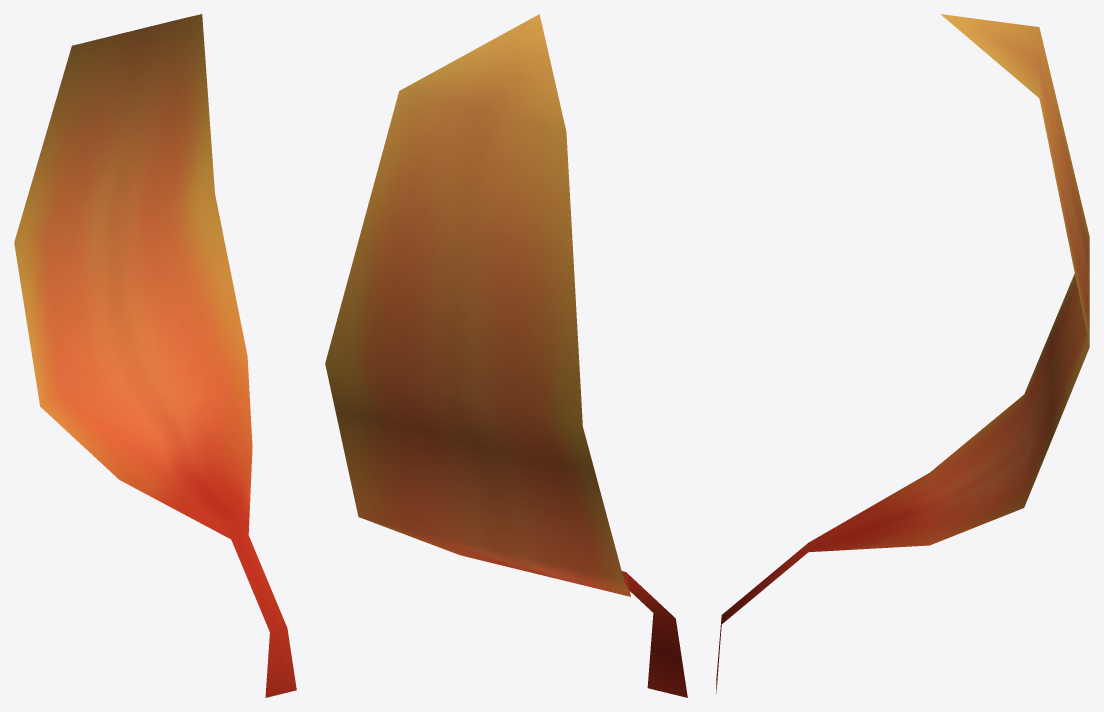
Rendered from mesh_Collectible_PhoenixFeather.fbx.
3 renders of one model, left to right at view 1: azimuth 30°, elevation 25°; view 2: azimuth 150°, elevation 25°; view 3: azimuth 270°, elevation 25°, orthographic. The views are drawn at different scales.
Visible parts, largest first — view 1: mesh_Collectible_PhoenixFeather; view 2: mesh_Collectible_PhoenixFeather; view 3: mesh_Collectible_PhoenixFeather.
Part boxes in pixels (left/top/right/bottom): mesh_Collectible_PhoenixFeather: left=14, top=14, right=296, bottom=697; mesh_Collectible_PhoenixFeather: left=325, top=14, right=687, bottom=697; mesh_Collectible_PhoenixFeather: left=716, top=14, right=1089, bottom=693.
Size of the model in its own units: 0.7012 by 1.95 by 0.9752.
